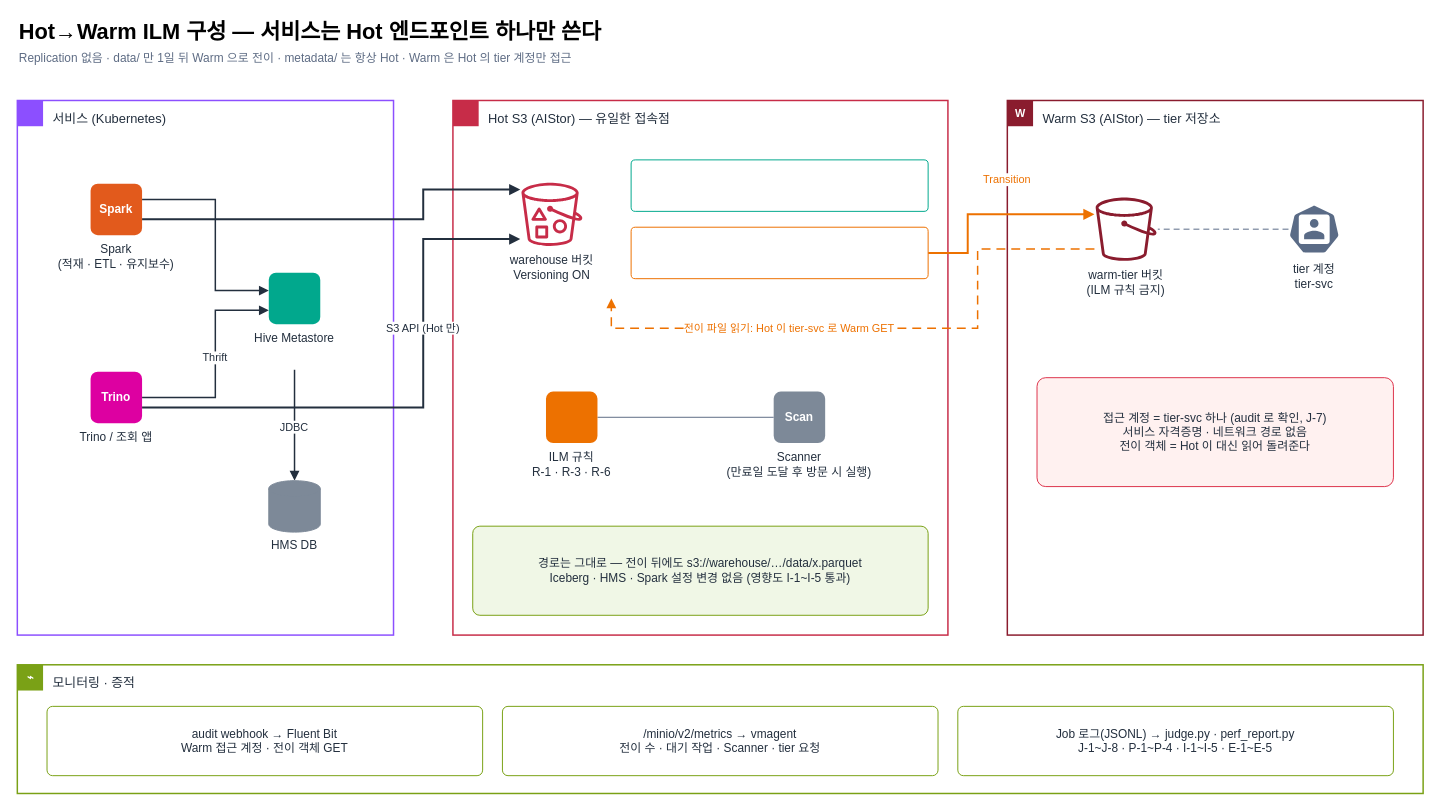
The diagram is 1441 pixels wide and 811 high, and some of its shapes have lost their labels. Each missing label, with the centre of its shape:
"<db>.db/<tbl>/data/ R-1 1일 뒤 Warm 전이 · R-3 비현행 만료" belongs at point (779, 252).
"<db>.db/<tbl>/metadata/ 규칙 없음 → 항상 Hot" belongs at point (779, 185).
"DB" belongs at point (294, 506).
"HMS" belongs at point (294, 298).
"ILM" belongs at point (571, 417).
"k8s" belongs at point (30, 113).
"S3" belongs at point (465, 113).
